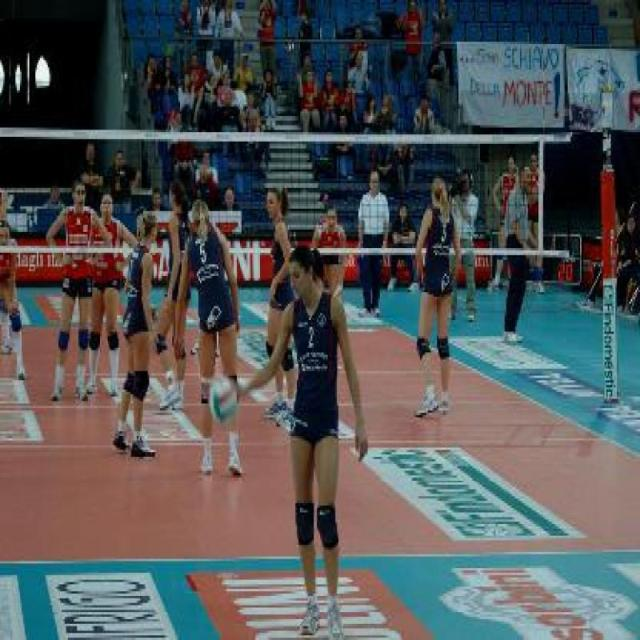volleyball: (208, 376, 238, 426)
